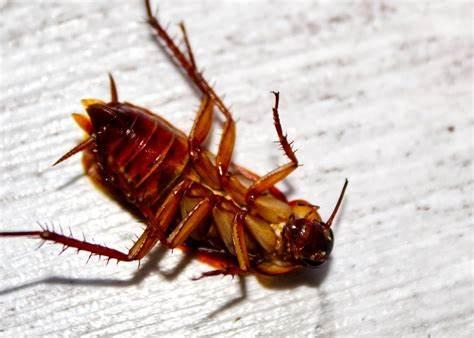cockroach: (53, 73, 339, 288)
